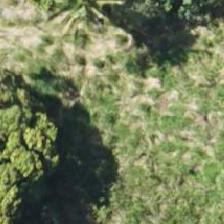coconut_tree: (36, 0, 126, 49)
